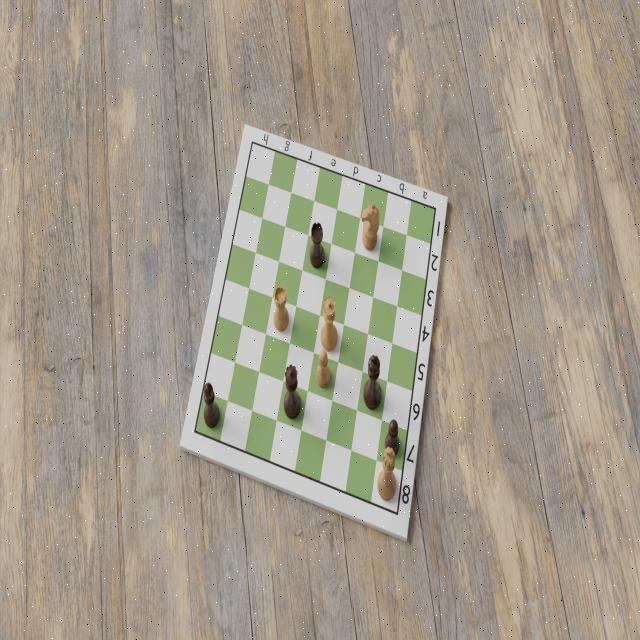black-bishop: (201, 381, 221, 431)
black-king: (361, 350, 384, 411)
black-pawn: (383, 413, 401, 459)
black-queen: (281, 360, 303, 424)
black-rook: (308, 218, 328, 273)
white-king: (376, 445, 399, 510)
white-knight: (358, 201, 382, 255)
white-pawn: (313, 348, 335, 394)
white-queen: (318, 293, 338, 350)
white-rook: (273, 285, 291, 335)
